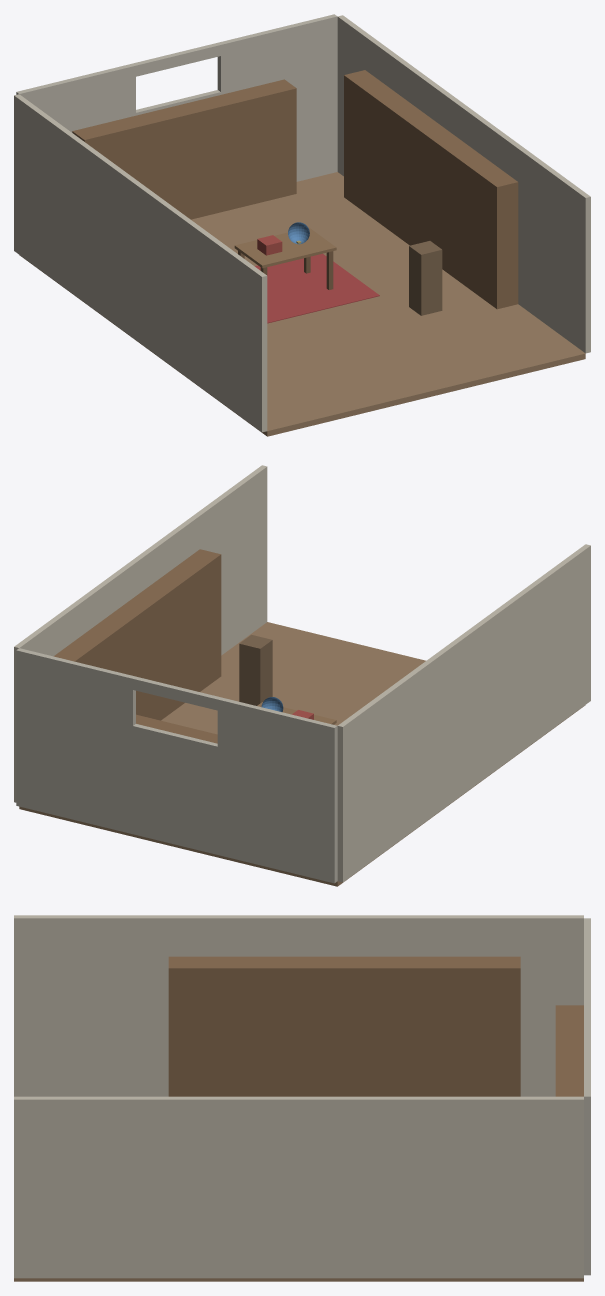
The picture shows the model from 3 angles, top to bottom: view 1: azimuth 30°, elevation 25°; view 2: azimuth 150°, elevation 25°; view 3: azimuth 270°, elevation 25°; orthographic projection. The views are drawn at different scales.
Parts seen in each view (by area): view 1: wall_w, floor, shelf_e, wall_e, shelf_n, wall_n2, wall_n, rug, lectern, table, wall_n4; view 2: wall_w, wall_n, wall_n2, wall_e, shelf_e, floor, wall_n3, lectern, wall_n4, shelf_n; view 3: wall_e, wall_w, shelf_w, shelf_n, floor, wall_n2.
Boxes of the visible parts, x1=… form: wall_w: x1=14, y1=94, x2=267, y2=432; floor: x1=19, y1=172, x2=585, y2=436; shelf_e: x1=344, y1=70, x2=518, y2=309; wall_e: x1=337, y1=15, x2=590, y2=353; shelf_n: x1=72, y1=79, x2=296, y2=219; wall_n2: x1=217, y1=14, x2=337, y2=181; wall_n: x1=16, y1=63, x2=135, y2=132; rug: x1=255, y1=253, x2=379, y2=323; lectern: x1=409, y1=241, x2=442, y2=315; table: x1=234, y1=227, x2=336, y2=268; wall_n4: x1=133, y1=42, x2=220, y2=76; wall_w: x1=337, y1=544, x2=590, y2=882; wall_n: x1=217, y1=697, x2=337, y2=883; wall_n2: x1=16, y1=648, x2=135, y2=834; wall_e: x1=14, y1=465, x2=267, y2=802; shelf_e: x1=53, y1=549, x2=221, y2=720; floor: x1=19, y1=622, x2=585, y2=886; wall_n3: x1=133, y1=724, x2=217, y2=854; lectern: x1=239, y1=634, x2=272, y2=705; wall_n4: x1=133, y1=676, x2=220, y2=710; shelf_n: x1=136, y1=714, x2=217, y2=743; wall_e: x1=14, y1=1096, x2=583, y2=1278; wall_w: x1=14, y1=915, x2=583, y2=1096; shelf_w: x1=168, y1=956, x2=520, y2=1096; shelf_n: x1=555, y1=1005, x2=583, y2=1096; floor: x1=14, y1=1278, x2=583, y2=1281; wall_n2: x1=584, y1=1031, x2=590, y2=1275.
Size of the model in its own units: 6.2 by 2.9 by 8.2.
